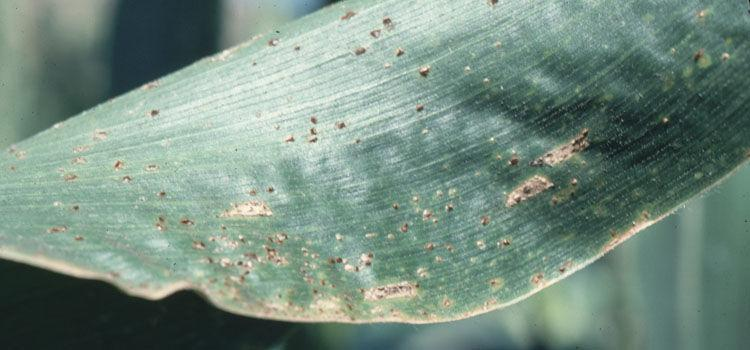Corn_Common_Rust: (166, 184, 521, 330), (1, 66, 163, 289), (509, 125, 599, 202), (210, 23, 303, 66), (338, 6, 410, 61), (271, 114, 367, 149), (522, 255, 585, 297), (607, 210, 663, 256), (690, 42, 736, 69), (653, 109, 678, 130), (692, 4, 713, 23), (415, 61, 433, 79), (412, 101, 427, 116), (481, 0, 508, 8)
